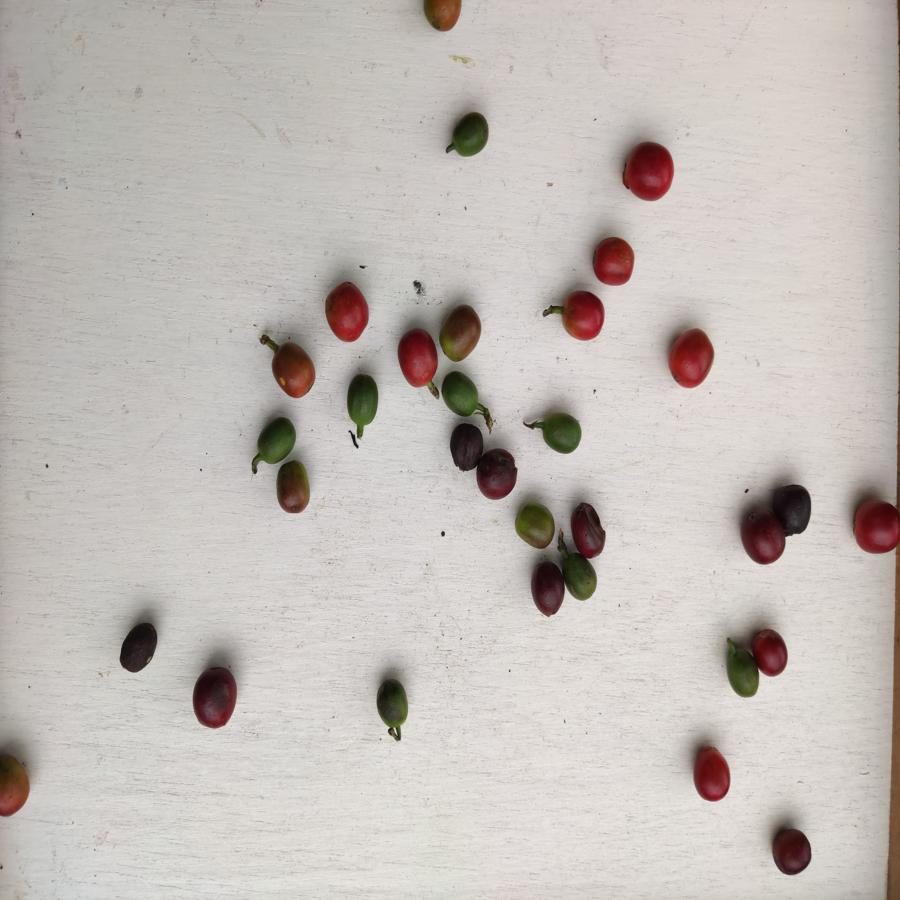Inmaduro: (719, 642, 759, 699), (370, 677, 412, 730), (437, 369, 479, 419), (346, 373, 383, 427), (253, 413, 297, 458), (560, 553, 599, 601), (450, 112, 489, 159), (539, 412, 581, 452)
Maduro: (619, 141, 674, 202), (665, 324, 714, 389), (851, 496, 899, 557), (323, 283, 371, 340), (592, 235, 637, 292), (396, 328, 436, 388), (560, 287, 606, 339), (689, 750, 733, 801)
Pinton: (436, 304, 481, 365), (268, 341, 314, 398), (514, 501, 557, 548), (1, 750, 30, 819), (275, 459, 312, 512), (421, 1, 464, 33)
Sobremaduro: (189, 667, 242, 727), (740, 505, 786, 563), (476, 448, 519, 502), (774, 481, 815, 535), (529, 558, 564, 619), (769, 827, 812, 876), (567, 501, 606, 555), (118, 622, 158, 671), (753, 627, 789, 677), (449, 423, 485, 471)
